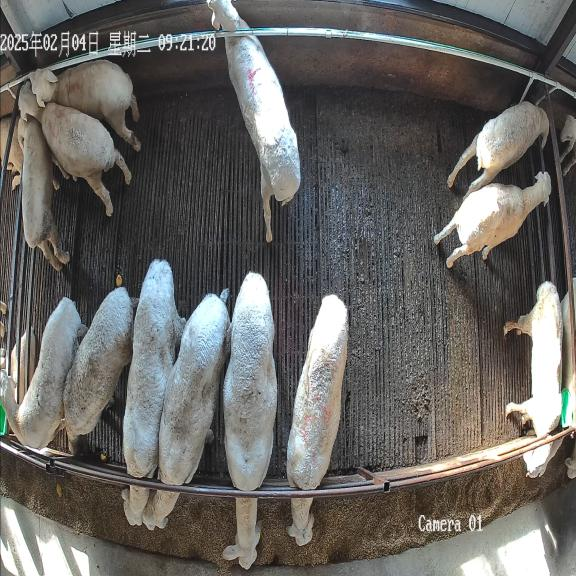drinking: (447, 102, 550, 197), (18, 117, 69, 269)
eating: (142, 288, 230, 530), (122, 259, 184, 525), (222, 272, 277, 569), (287, 295, 347, 546), (504, 281, 563, 477)
stand: (206, 0, 300, 242), (18, 81, 131, 216), (0, 298, 88, 448), (63, 287, 139, 455), (433, 172, 551, 268), (29, 60, 140, 150)
